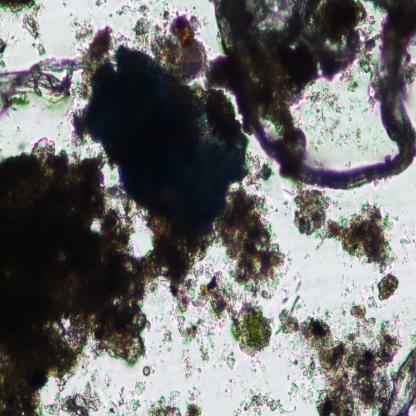Background material: (0, 137, 151, 412), (232, 0, 373, 123), (275, 308, 393, 412), (294, 184, 398, 272), (224, 190, 287, 301), (131, 9, 207, 82), (144, 221, 199, 313), (70, 9, 116, 66), (199, 258, 241, 318), (307, 117, 372, 155), (230, 300, 271, 360), (233, 382, 301, 415), (176, 313, 217, 363), (54, 380, 102, 416), (149, 388, 204, 416), (353, 296, 378, 346), (109, 387, 141, 415), (247, 153, 272, 188), (23, 4, 41, 42), (377, 273, 401, 300), (120, 3, 156, 19), (180, 347, 196, 379), (0, 0, 35, 11), (221, 347, 237, 370), (293, 276, 304, 307), (0, 37, 7, 69), (401, 236, 415, 251), (162, 328, 172, 348), (88, 366, 100, 380), (34, 42, 45, 56), (94, 0, 107, 8), (142, 365, 151, 376)
Cellulose filter fibre: (203, 16, 416, 193), (0, 56, 84, 106)
Fragment: (87, 43, 249, 259)
